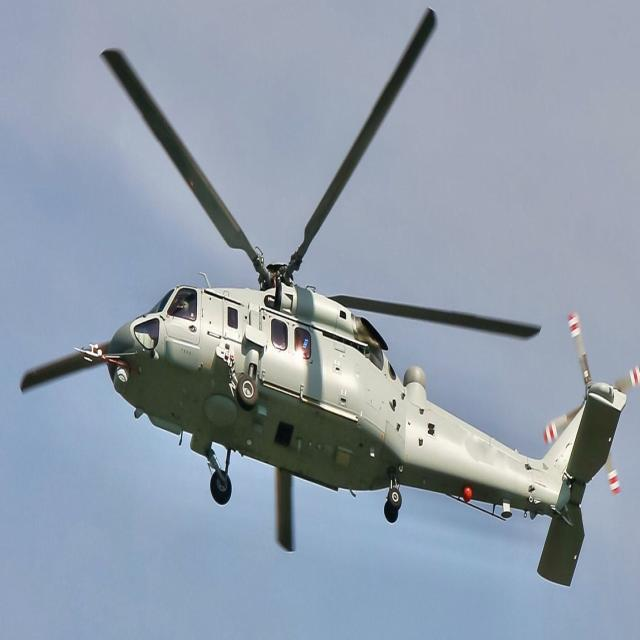helicopter: (15, 17, 640, 598)
